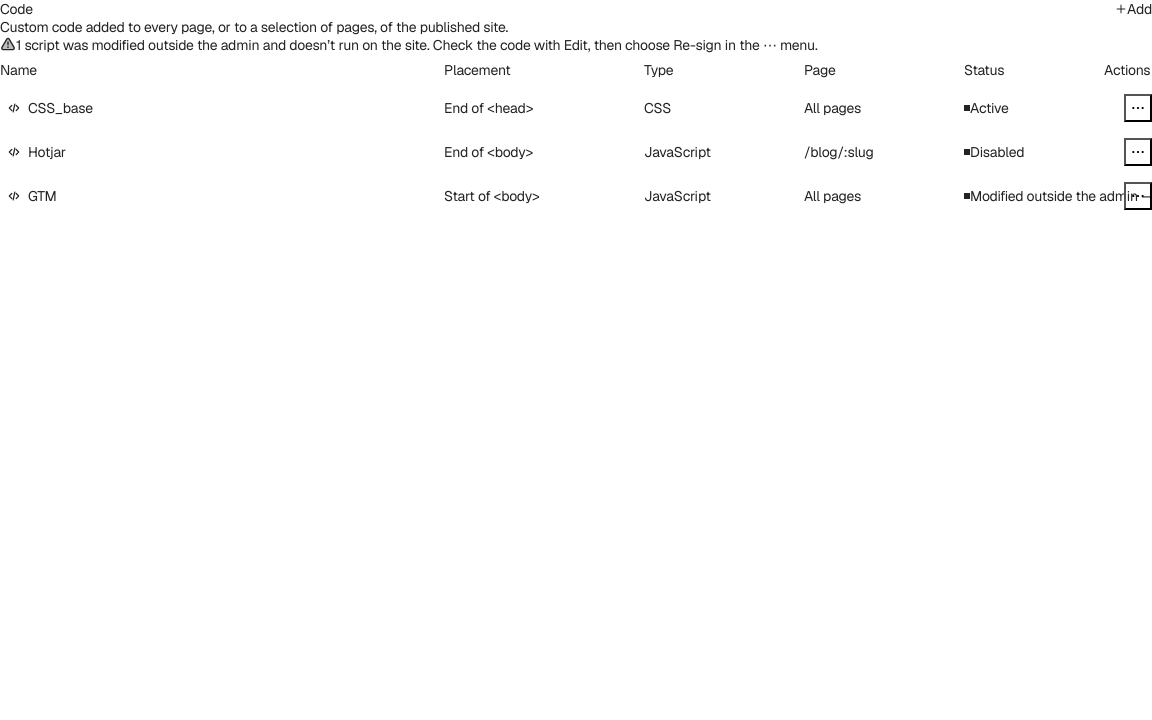
Test: CodeScreen › SEC-04 : Re-sign demande confirmation puis envoie les valeurs affichées
Click the button named "Actions for GTM" at {"x": 1138, "y": 196}, box [1124,182,1151,210]
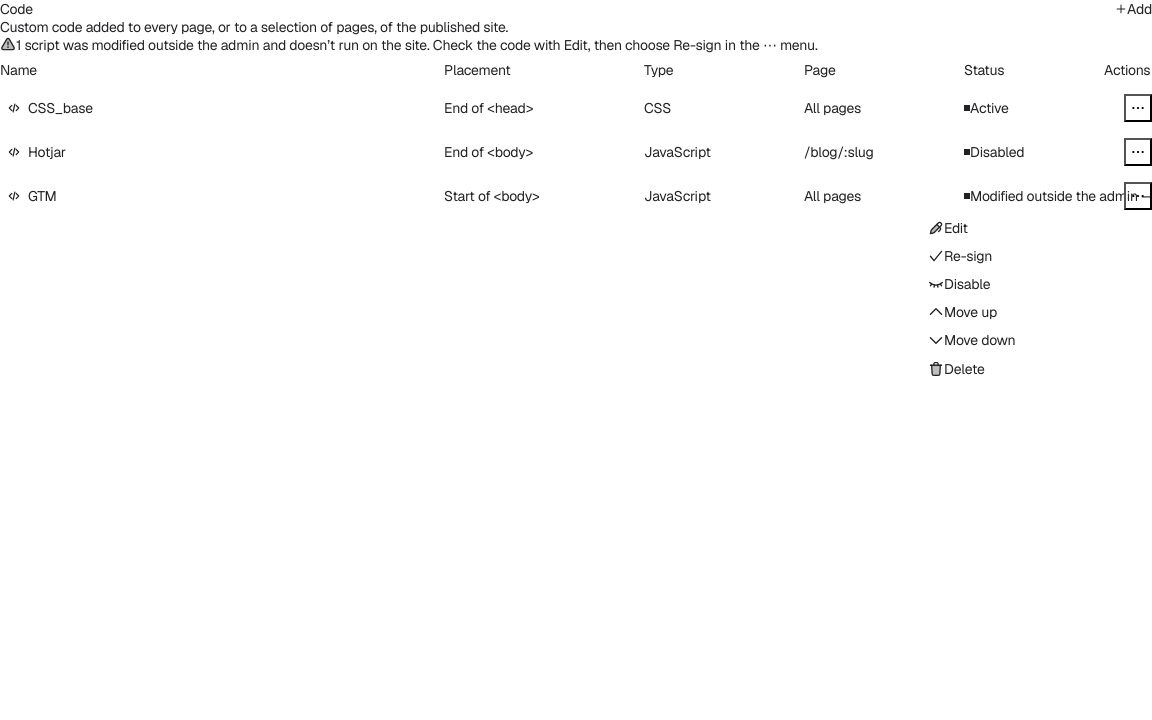
Click the menu item "Re-sign" at {"x": 960, "y": 256}, box [928,247,992,265]
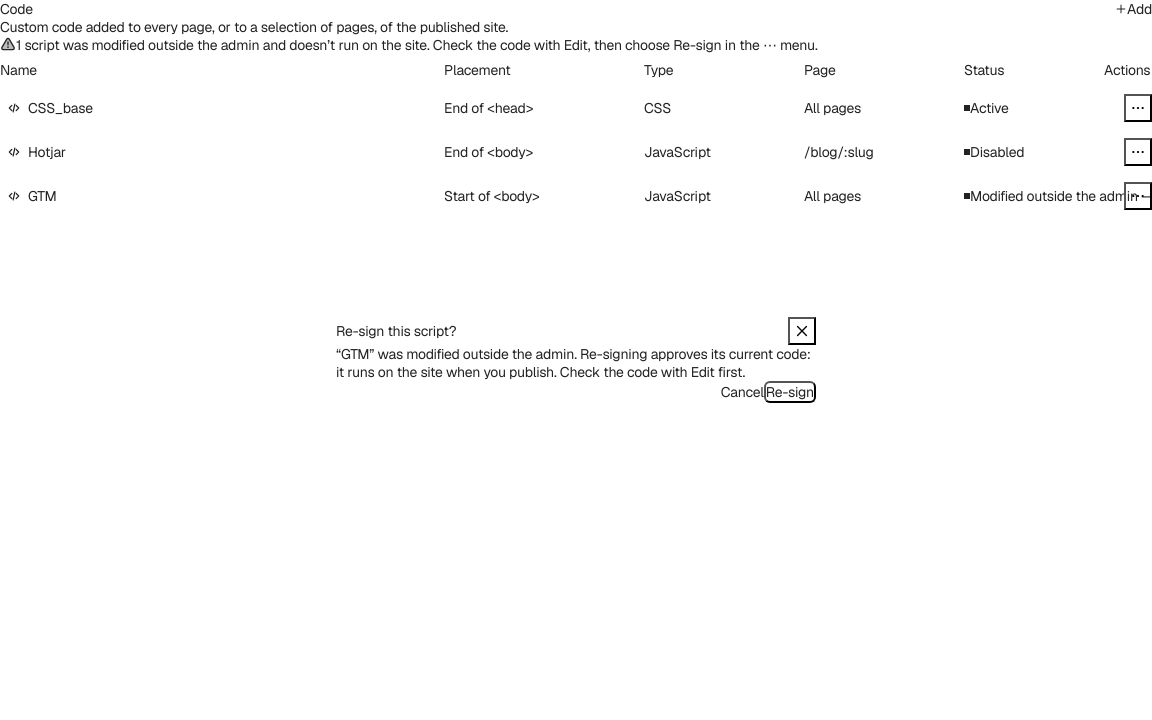
Click the button "Re-sign" at {"x": 790, "y": 392}, box [764,381,816,403]
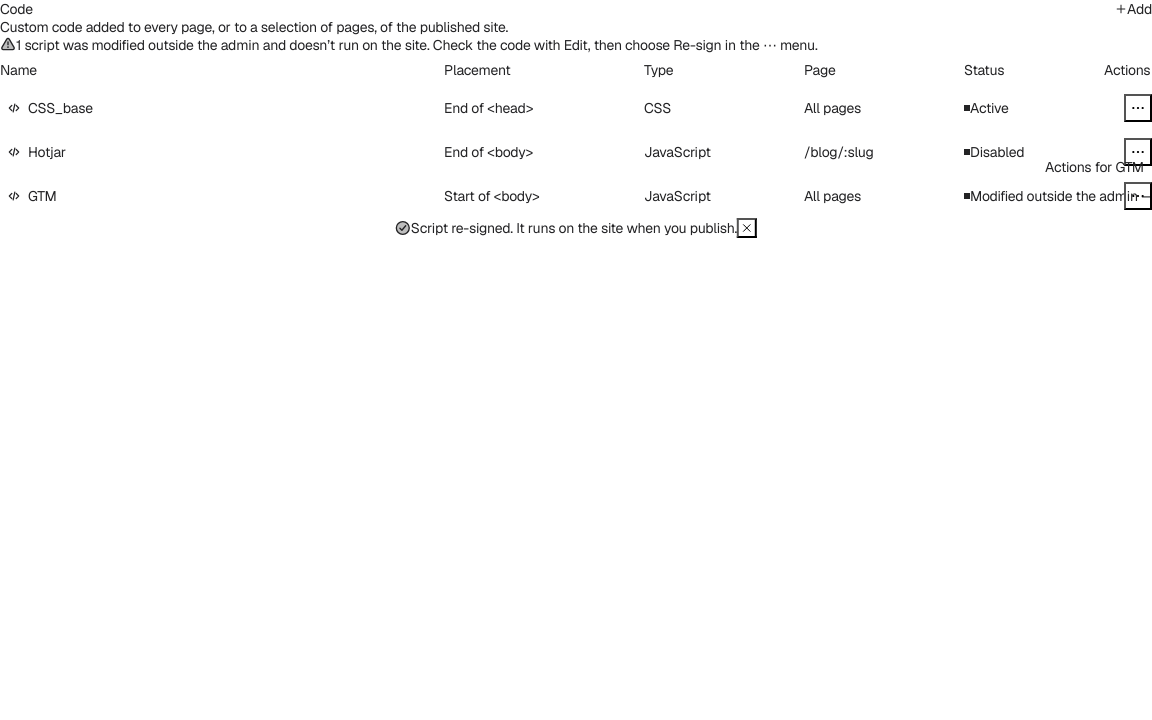
Expected: the text "Script re-signed. It runs on the site when you publish." is shown, [411,219,737,237]
